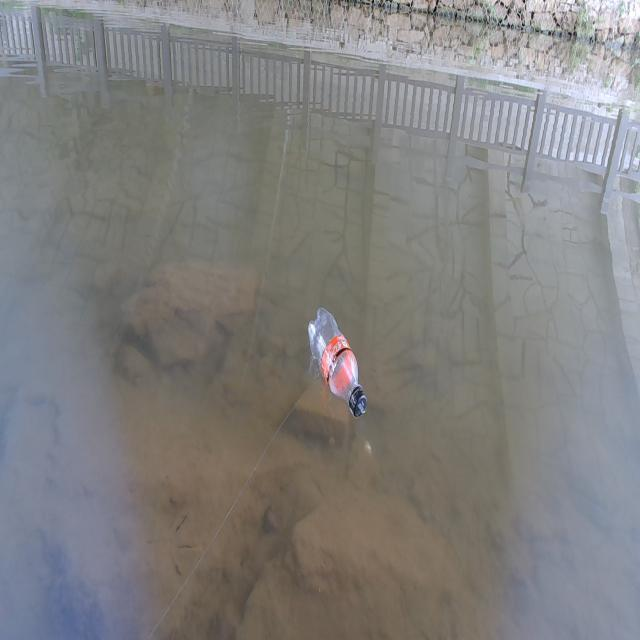bottle: (293, 272, 387, 438)
